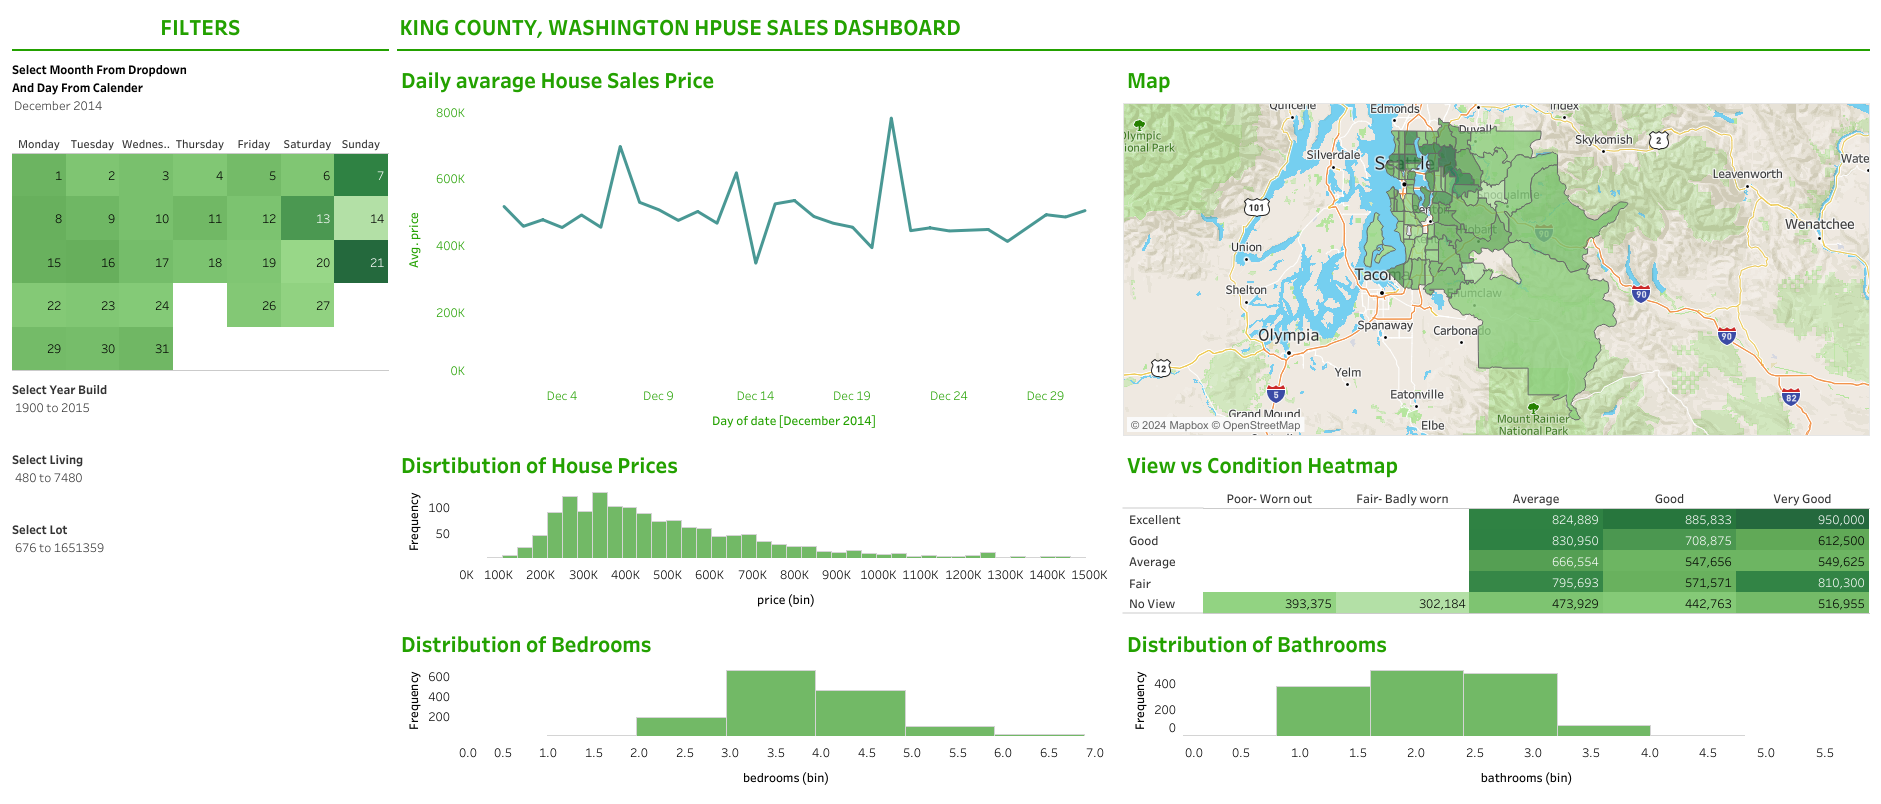

Layout of this report page (visuals, bound fields, positions):
{"tool":"tableau","page":{"name":"Dashboard","canvas":[1000,1000],"units":"permille","ordinal":0},"visuals":[{"type":"text","box":[4.7,8.9,204.2,41.3]},{"type":"text","box":[208.9,8.9,786.4,41.3]},{"type":"blank","box":[4.7,50.2,204.2,11.2]},{"type":"blank","box":[208.9,50.2,786.4,11.2]},{"type":"filter","title":"month","param":"[federated.0e7vqn40yffkqk156tis810ws4tb].[my:date:ok]","box":[4.7,61.4,204.2,77]},{"type":"worksheet","title":"Daily avarage House Sales Price","mark":"Automatic","rows":["price"],"cols":["date"],"box":[208.9,61.4,385.6,485.5]},{"type":"worksheet","title":"Map","mark":"Automatic","box":[594.5,61.4,400.8,485.5]},{"type":"worksheet","title":"month","mark":"Square","rows":["date"],"cols":["Calculation_1361213019835953163"],"box":[4.7,138.4,204.2,274.6]},{"type":"filter","title":"month","param":"[federated.0e7vqn40yffkqk156tis810ws4tb].[none:yr_built:qk]","box":[4.7,413,204.2,56.9]},{"type":"filter","title":"month","param":"[federated.0e7vqn40yffkqk156tis810ws4tb].[none:sqft_living:qk]","box":[4.7,469.9,204.2,56.9]},{"type":"filter","title":"month","param":"[federated.0e7vqn40yffkqk156tis810ws4tb].[none:sqft_lot:qk]","box":[4.7,526.8,204.2,56.9]},{"type":"worksheet","title":"Disrtibution of House Prices","mark":"Automatic","rows":["price"],"cols":["price (bin)"],"box":[208.9,546.9,385.6,222.1]},{"type":"worksheet","title":"View vs Condition Heatmap","mark":"Square","rows":["view"],"cols":["condition"],"box":[594.5,546.9,400.8,222.1]},{"type":"worksheet","title":"Distribution of Bedrooms","mark":"Automatic","rows":["bedrooms"],"cols":["bedrooms (bin)"],"box":[208.9,769,385.6,222.1]},{"type":"worksheet","title":"Distribution of Bathrooms","mark":"Automatic","rows":["bathrooms"],"cols":["bathrooms (bin)"],"box":[594.5,769,400.8,222.1]}]}

Visuals, with their boxes on the dashboard's canvas, which has no fixed pixel size, in thousandths of its width and height (x1, y1, x2, y2). These are canvas units, not pixel positions in the 1881x804 screenshot, which may show the page scaled, cropped or inside an application window:
text: select_region(5, 9, 209, 50)
text: select_region(209, 9, 995, 50)
blank: select_region(5, 50, 209, 61)
blank: select_region(209, 50, 995, 61)
"month" filter: select_region(5, 61, 209, 138)
"Daily avarage House Sales Price" worksheet: select_region(209, 61, 594, 547)
"Map" worksheet: select_region(594, 61, 995, 547)
"month" worksheet (Square marks): select_region(5, 138, 209, 413)
"month" filter: select_region(5, 413, 209, 470)
"month" filter: select_region(5, 470, 209, 527)
"month" filter: select_region(5, 527, 209, 584)
"Disrtibution of House Prices" worksheet: select_region(209, 547, 594, 769)
"View vs Condition Heatmap" worksheet (Square marks): select_region(594, 547, 995, 769)
"Distribution of Bedrooms" worksheet: select_region(209, 769, 594, 991)
"Distribution of Bathrooms" worksheet: select_region(594, 769, 995, 991)
